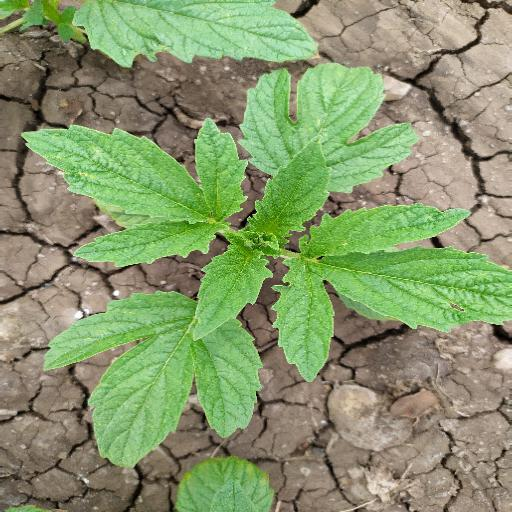crop: (26, 63, 510, 474)
